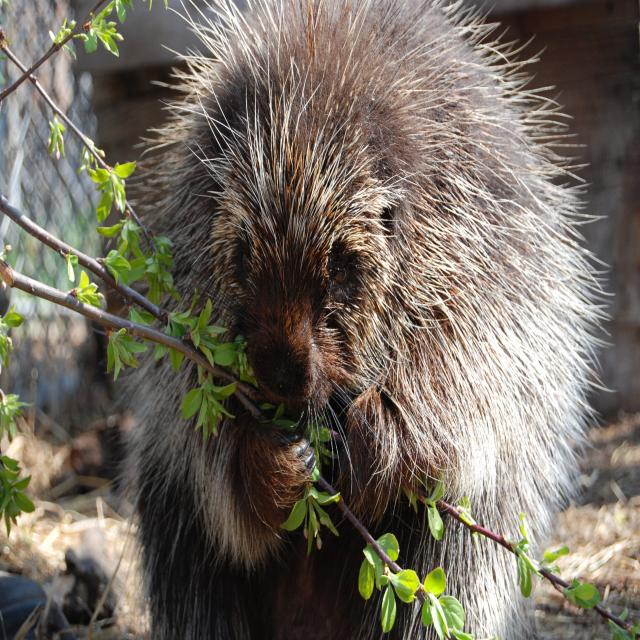Porcupine: (136, 0, 577, 640)
